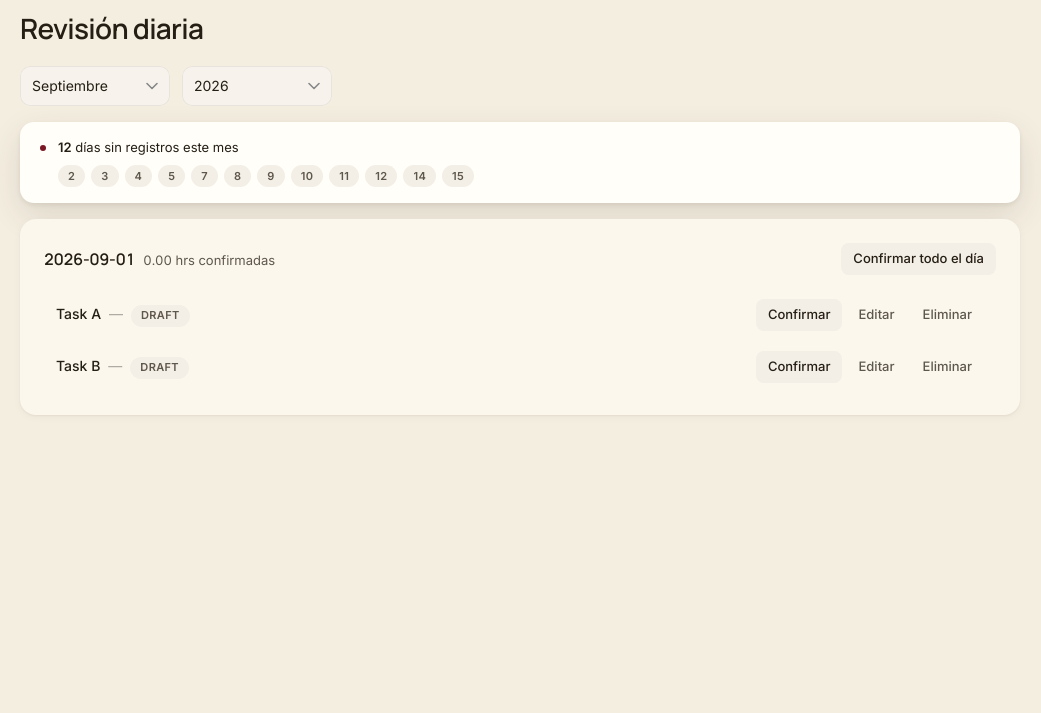
DailyReview › cancelling an edit discards the changes
Step 1. Click the button "Editar" in the row of "Task A" → (877, 315), box [846,299,907,331]
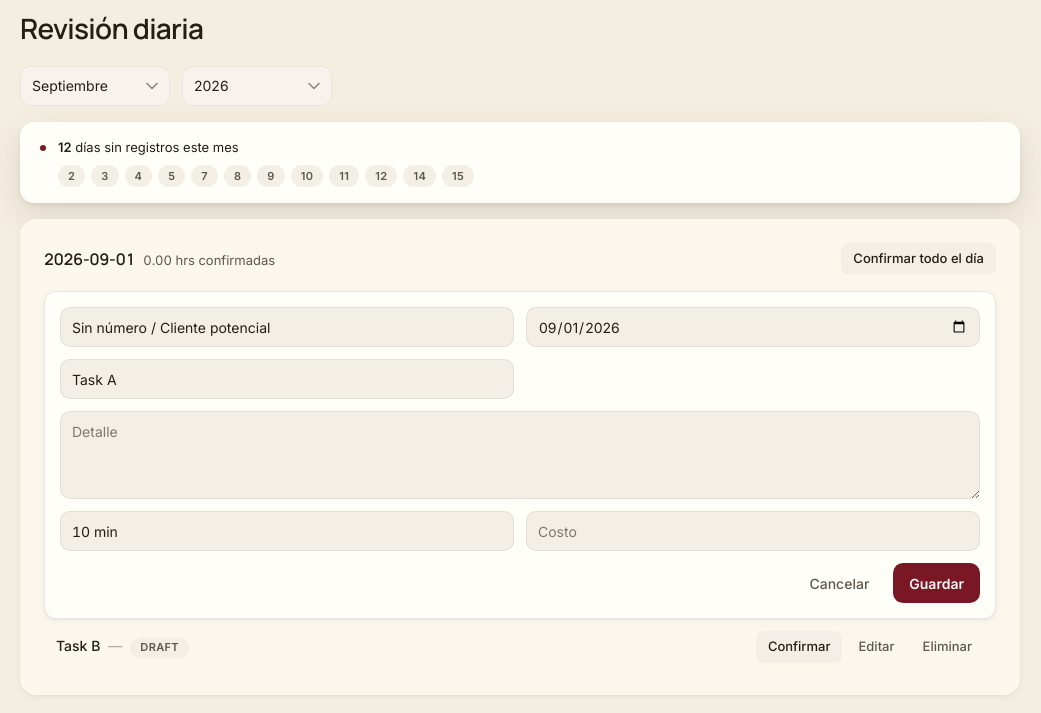
Step 2. Replace the text in the field named "Task" with "No guardar esto" → (287, 379), box [60,359,514,399]
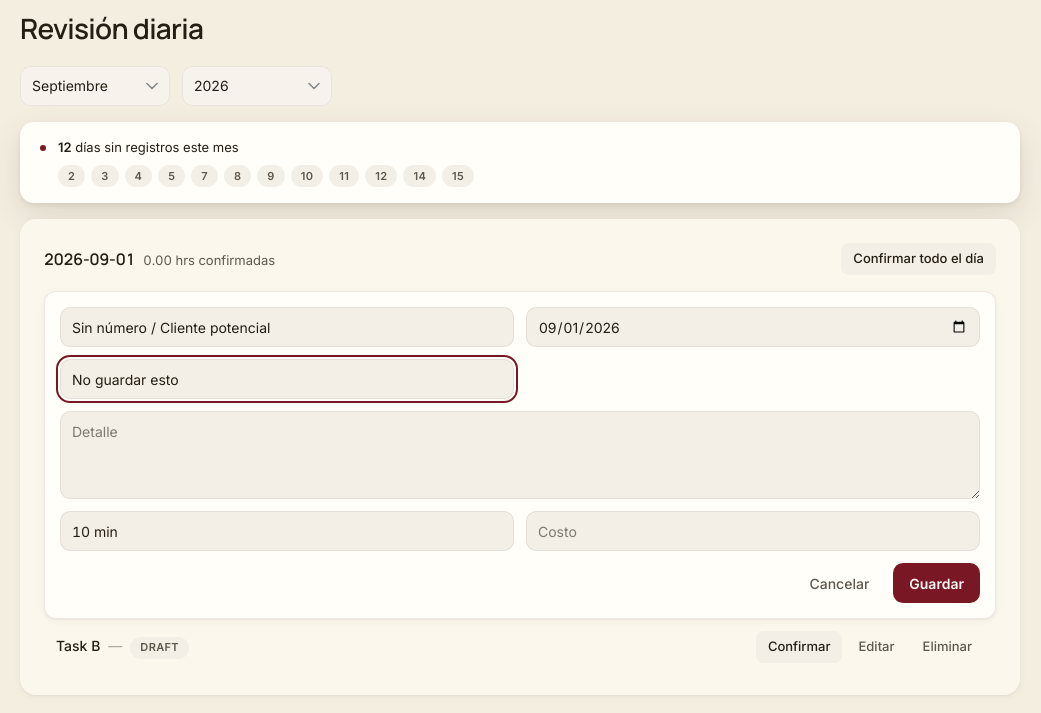
Step 3. Click the button "Cancelar" → (839, 583), box [794,563,885,603]
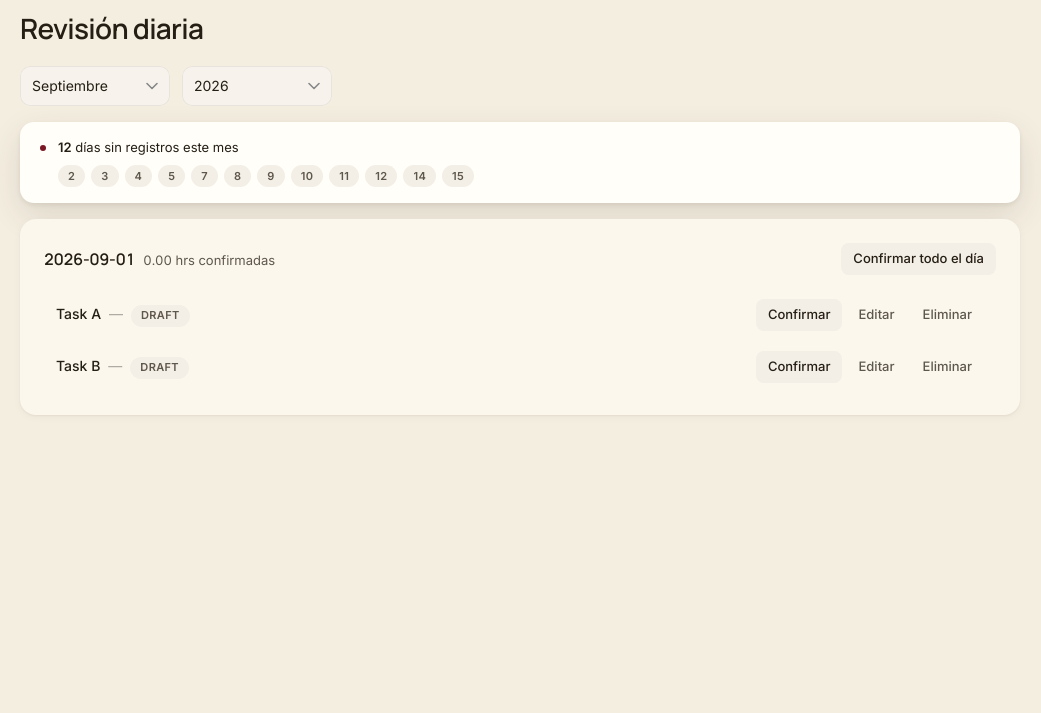
Expected: the text "No guardar esto" is not shown
Expected: the text "Task A" is shown, [56,304,101,324]
